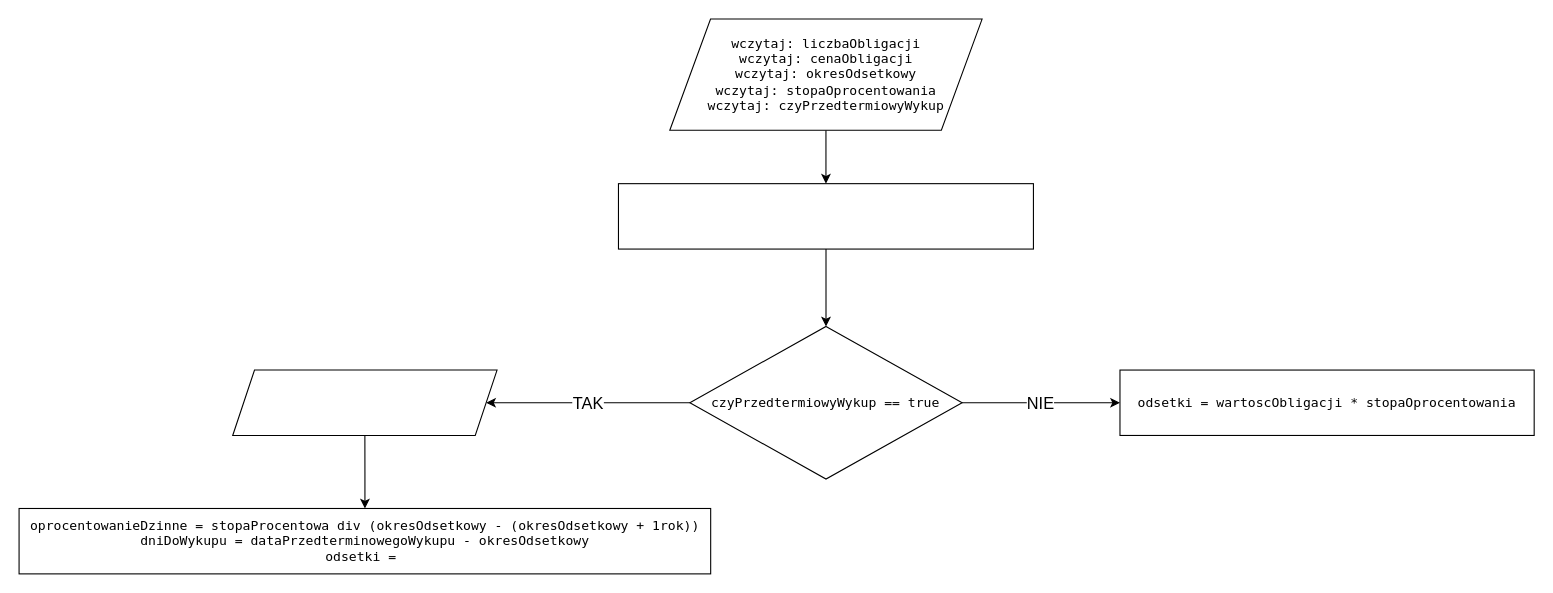
Image size: 1553x593. Some labels were removed from this diagram. Each missing label, with the centre of its shape:
"wartoscObligacji = liczbaObligacji * cenaObligacji" goes at (825,216).
"wczytaj: dataPrzedterminowegoWykupu" goes at (364,402).
